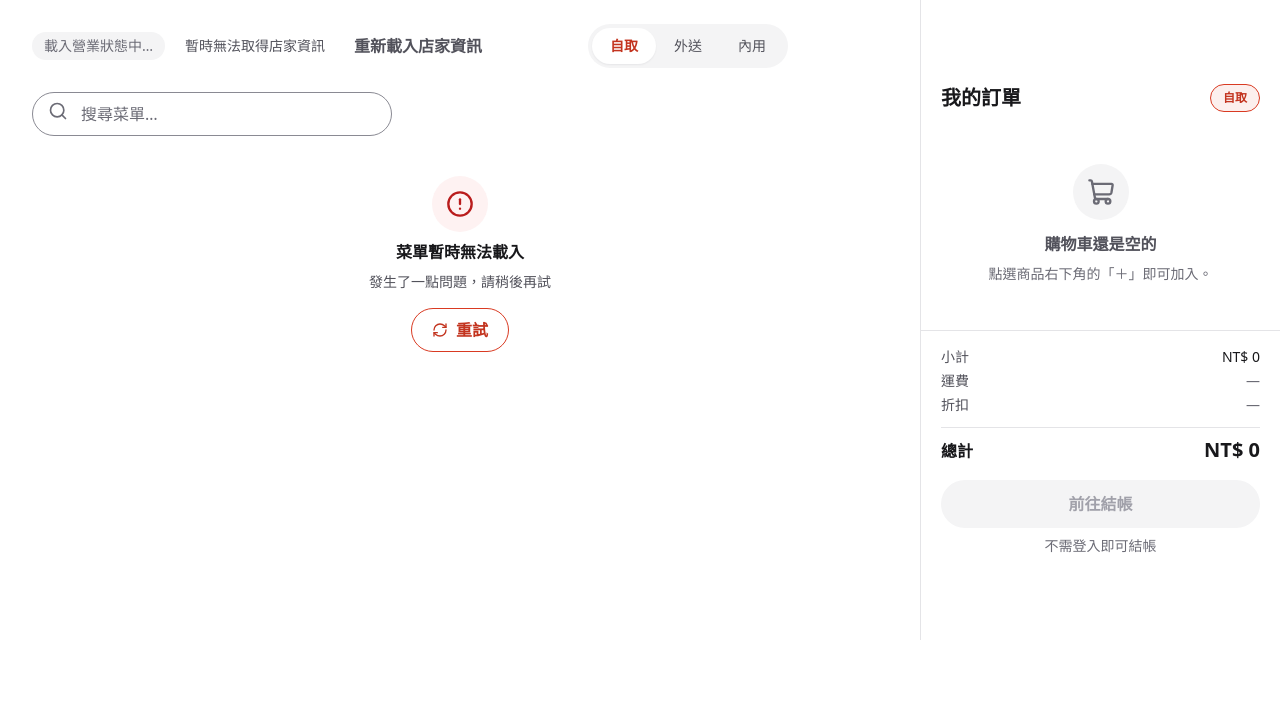
Scenario: 版面與資料降級 › 載入失敗顯示區塊錯誤與重試
Expected: the heading "菜單暫時無法載入" is shown, left=396, top=240, right=524, bottom=264
Click the button "重試" at (460, 330), box left=411, top=308, right=509, bottom=352
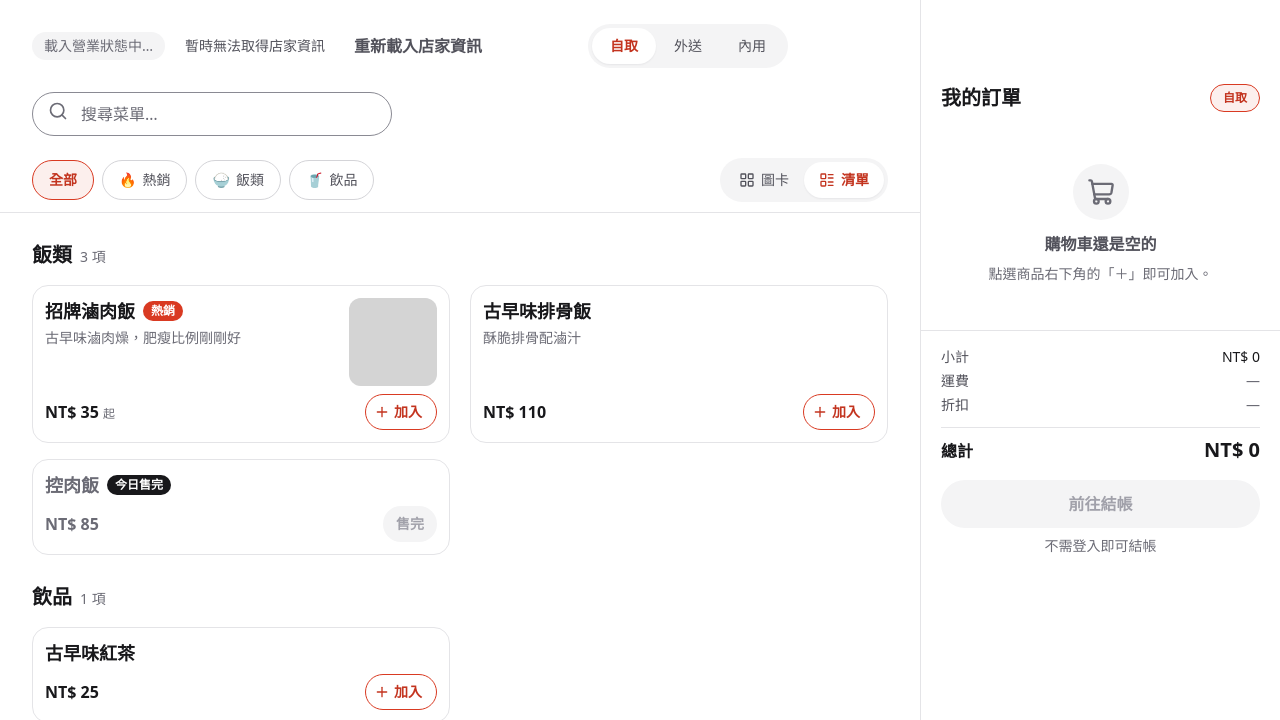
Result: the heading "招牌滷肉飯" is shown at left=45, top=298, right=135, bottom=324
